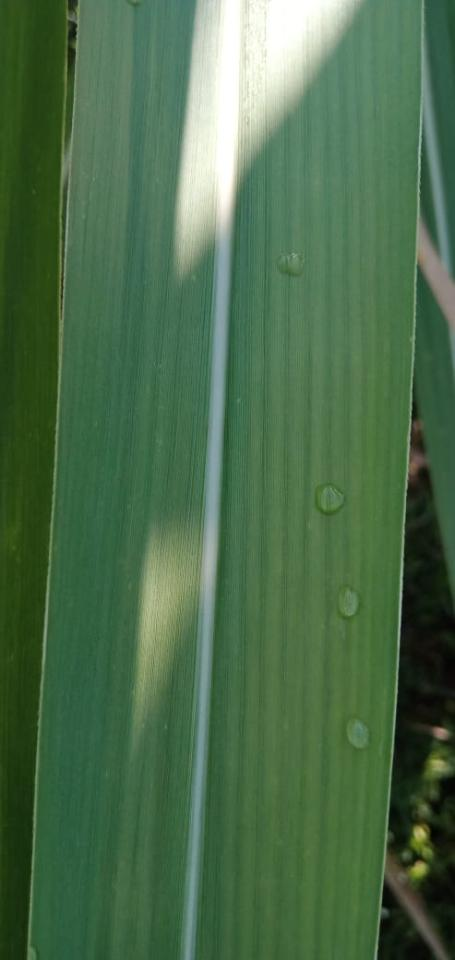Healthy: (32, 0, 420, 959), (0, 0, 66, 959)
